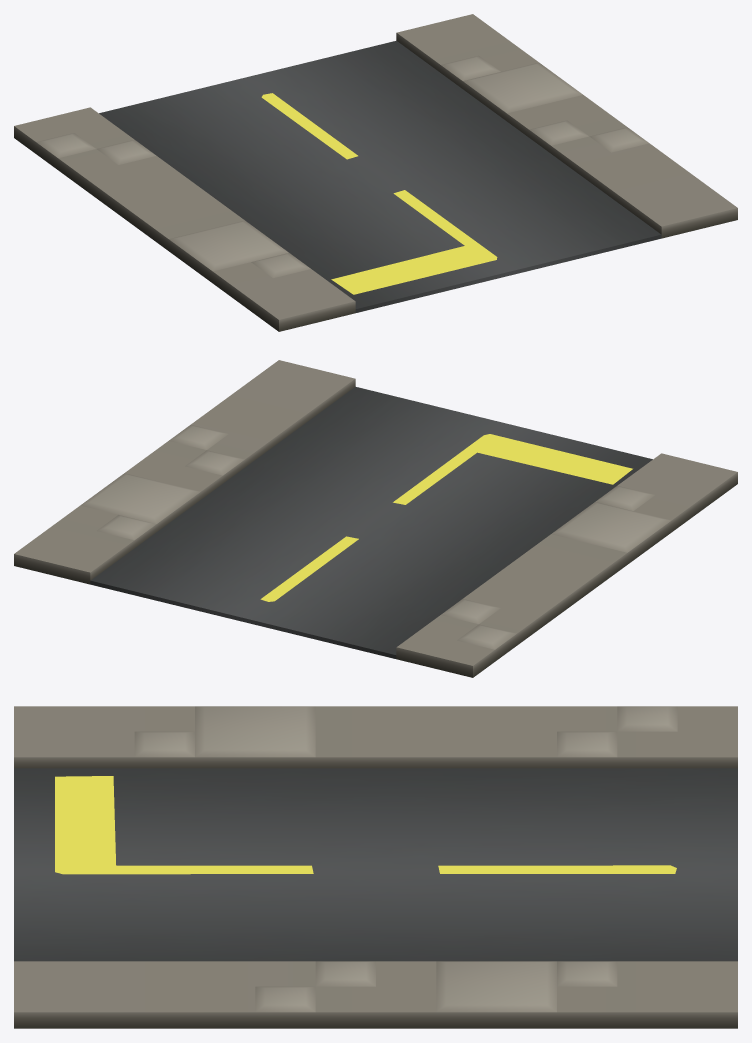
File: Road_1F.fbx
3 views of the same model, one above another, from view 1: azimuth 30°, elevation 25°; view 2: azimuth 150°, elevation 25°; view 3: azimuth 270°, elevation 25° (orthographic). The views are drawn at different scales.
Visible parts, largest first — view 1: Road_1F; view 2: Road_1F; view 3: Road_1F.
Part boxes in pixels (x1,y1,x2,y2): Road_1F: [14, 14, 737, 331]; Road_1F: [14, 360, 737, 677]; Road_1F: [14, 706, 737, 1028].
Bounding box in the file's own units: 12 × 0.3565 × 12.
